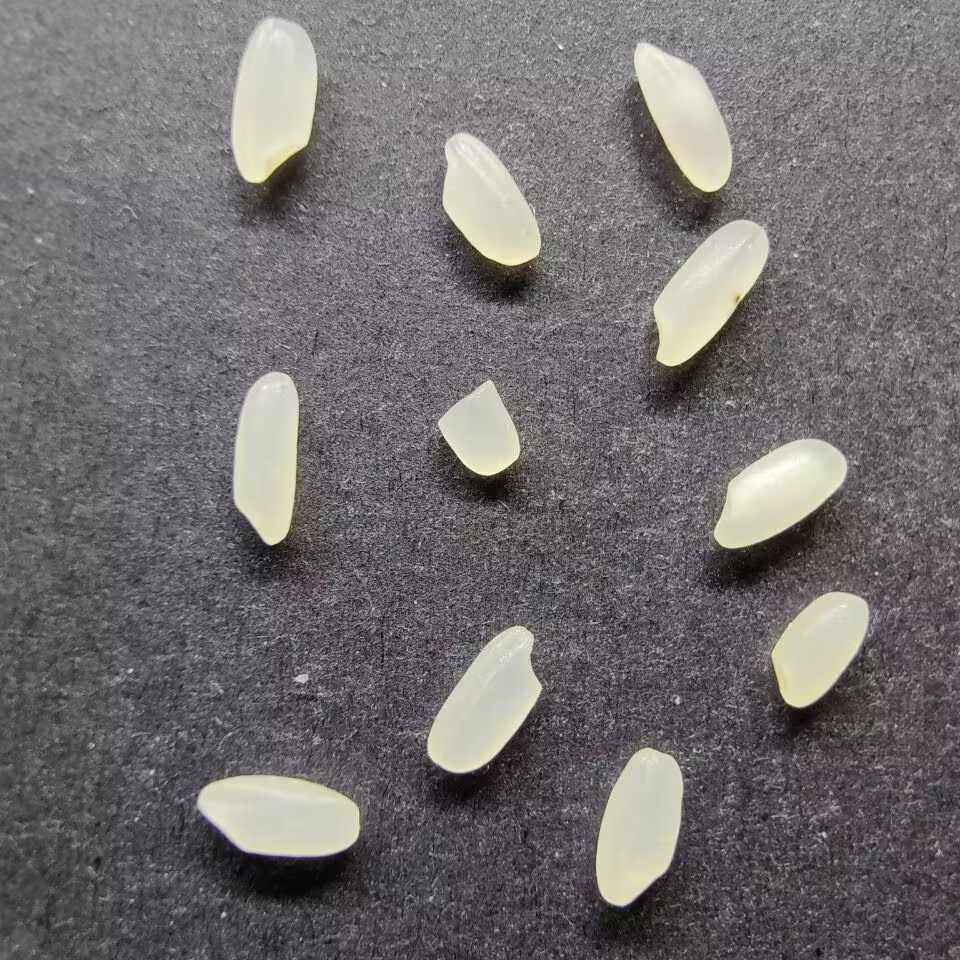broken: (435, 377, 523, 477)
rice: (425, 623, 544, 776), (651, 217, 770, 367), (632, 38, 735, 193), (711, 436, 850, 550), (229, 15, 319, 187), (593, 746, 685, 906), (438, 132, 543, 267), (196, 773, 360, 859), (230, 369, 301, 546), (769, 588, 871, 710)
